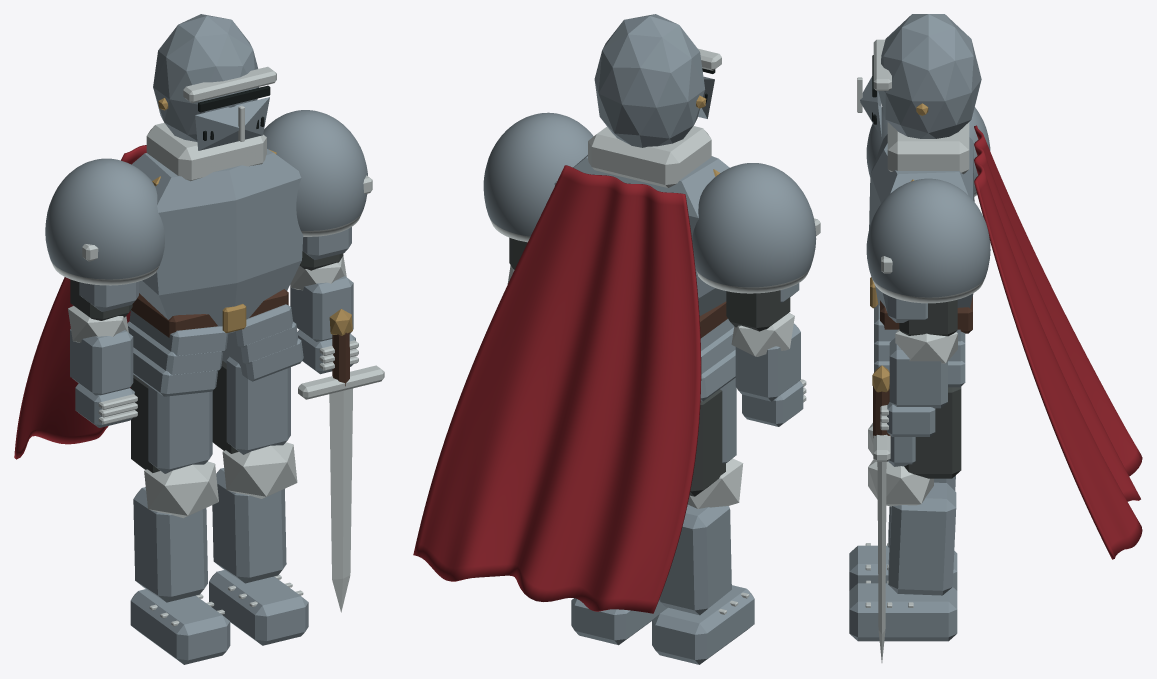
File: knight-v2.glb
3 views of the same model, side by side, from view 1: azimuth 30°, elevation 25°; view 2: azimuth 150°, elevation 25°; view 3: azimuth 270°, elevation 25° (orthographic). The views are drawn at different scales.
Visible parts, largest first — view 1: Ridged breastplate, Left shoulder pauldron, Right shoulder pauldron, Angular closed bascinet, Heavy folded crimson cape, Left shaped greave, Right shaped greave, Left sabaton, Right sabaton, Right cuisse, Left cuisse, Double edged sword blade (+27 smaller); view 2: Heavy folded crimson cape, Left shoulder pauldron, Angular closed bascinet, Right shoulder pauldron, Left shaped greave, Left sabaton, Gorget collar, Left vambrace, Ridged breastplate, Left padded thigh, Right sabaton, Left upper arm (+6 smaller); view 3: Heavy folded crimson cape, Right shoulder pauldron, Angular closed bascinet, Right shaped greave, Right sabaton, Right padded thigh, Gorget collar, Right vambrace, Ridged breastplate, Right knee, Double edged sword blade, Right elbow (+14 smaller).
Boxes of the visible parts, x1,y1,x2,y2 form: Ridged breastplate: (131, 149, 303, 333); Left shoulder pauldron: (45, 158, 164, 285); Right shoulder pauldron: (263, 110, 367, 236); Angular closed bascinet: (153, 14, 258, 141); Heavy folded crimson cape: (14, 145, 146, 459); Left shaped greave: (133, 487, 207, 602); Right shaped greave: (212, 468, 286, 583); Left sabaton: (130, 589, 230, 664); Right sabaton: (209, 570, 308, 645); Right cuisse: (226, 356, 290, 454); Left cuisse: (148, 385, 212, 473); Double edged sword blade: (329, 388, 352, 612); Heavy folded crimson cape: (413, 165, 701, 613); Left shoulder pauldron: (692, 163, 816, 293); Angular closed bascinet: (594, 14, 705, 147); Right shoulder pauldron: (483, 112, 593, 242); Left shaped greave: (659, 504, 731, 615); Left sabaton: (652, 585, 754, 664); Gorget collar: (588, 126, 711, 187); Left vambrace: (735, 323, 800, 401); Ridged breastplate: (554, 155, 729, 315); Left padded thigh: (689, 389, 725, 496); Right sabaton: (571, 598, 667, 645); Left upper arm: (726, 290, 790, 331); Heavy folded crimson cape: (974, 125, 1142, 559); Right shoulder pauldron: (866, 178, 990, 303); Angular closed bascinet: (878, 14, 981, 138); Right shaped greave: (888, 482, 956, 595); Right sabaton: (849, 583, 957, 641); Right padded thigh: (904, 387, 961, 478); Gorget collar: (887, 122, 969, 174); Right vambrace: (889, 338, 947, 408); Ridged breastplate: (869, 134, 974, 312); Right knee: (868, 459, 933, 506); Double edged sword blade: (877, 462, 886, 662); Right elbow: (895, 329, 957, 363).
Bounding box in the file's own units: 0.901 × 1.71 × 0.756.
